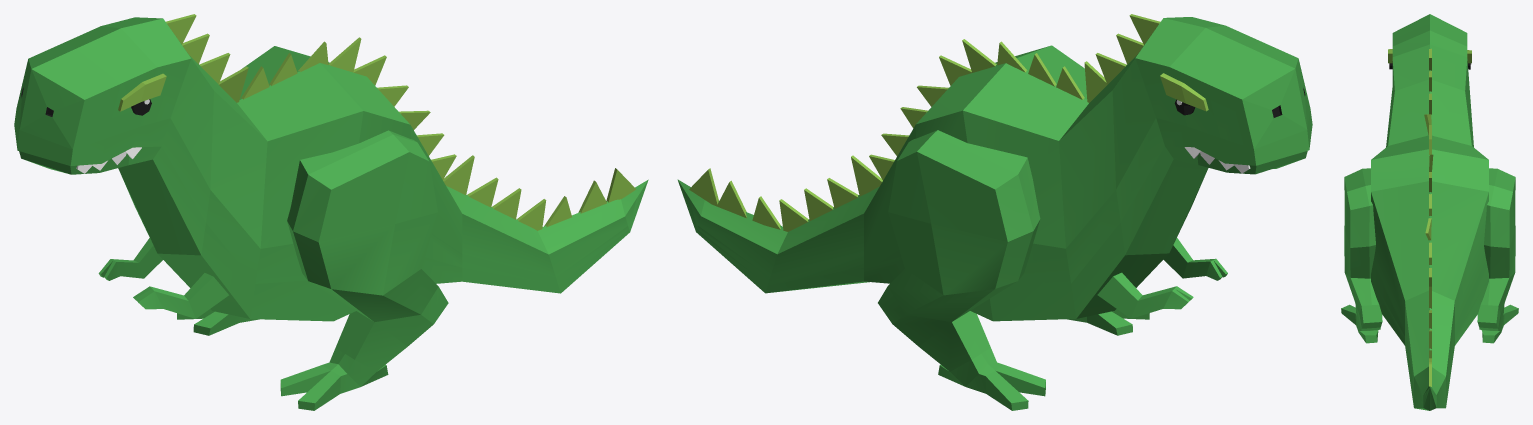
The model's file is Dinosaur2.glb.
3 views of the same model, side by side, from view 1: azimuth 30°, elevation 25°; view 2: azimuth 150°, elevation 25°; view 3: azimuth 270°, elevation 25° (orthographic). The views are drawn at different scales.
Parts seen in each view (by area): view 1: Dinosaurs_01_Cube.019; view 2: Dinosaurs_01_Cube.019; view 3: Dinosaurs_01_Cube.019.
Part boxes in pixels (x1,y1,x2,y2): Dinosaurs_01_Cube.019: [14, 14, 648, 410]; Dinosaurs_01_Cube.019: [677, 14, 1312, 410]; Dinosaurs_01_Cube.019: [1341, 14, 1518, 410].
Bounding box in the file's own units: 360 × 199 × 132.
